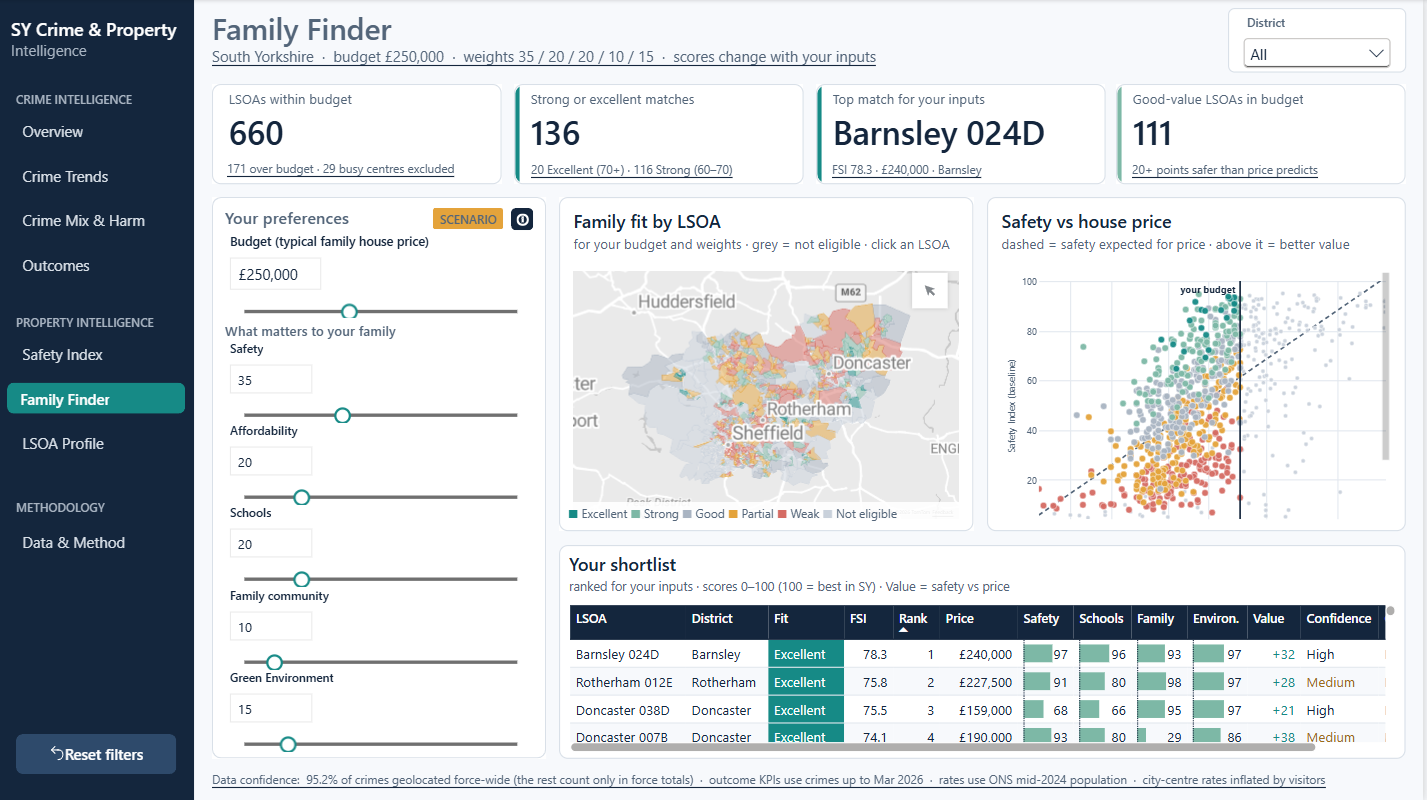

The dashboard page shown, as its layout file describes it:
{"tool":"powerbi","page":{"name":"Family Finder","canvas":[1280,720],"ordinal":5},"visuals":[{"type":"group","id":"g1","title":"Nav rail","box":[0,0,176,720],"z":0},{"type":"shape","box":[0,0,176,720],"z":0,"group":"g1"},{"type":"cardVisual","fields":{"Data":["_Measures.Strong Matches"]},"box":[463,76,260,90],"z":0,"group":"g4"},{"type":"cardVisual","fields":{"Data":["_Measures.Top Match"]},"box":[734,76,260,90],"z":0,"group":"g5"},{"type":"cardVisual","fields":{"Data":["_Measures.Good Value LSOAs"]},"box":[1004,76,260,90],"z":0,"group":"g6"},{"type":"cardVisual","title":"Card","fields":{"Data":["_Measures.LSOAs Within Budget"]},"box":[192.1,76.3,260,90],"z":0,"group":"g3"},{"type":"shape","box":[192,178,300,504],"z":0,"group":"g7"},{"type":"azureMap","title":"Family fit by LSOA","fields":{"Category":["LSOA.LSOA Code"]},"box":[504,178,372,300],"z":0,"group":"g8"},{"type":"shape","box":[390,188,63,19],"z":0,"group":"g2"},{"type":"textbox","box":[192,8,640,36],"z":1000},{"type":"textbox","box":[12,16,160,56],"z":1000,"group":"g1"},{"type":"textbox","box":[206,142,232,18],"z":1000,"group":"g3"},{"type":"textbox","box":[477.9,142,232,18],"z":1000,"group":"g4"},{"type":"textbox","box":[748,142,232,18],"z":1000,"group":"g5"},{"type":"textbox","box":[1018.6,142,232,18],"z":1000,"group":"g6"},{"type":"textbox","box":[392,188,60,17.9],"z":1000,"group":"g2"},{"type":"actionButton","box":[460,188,20,20],"z":1000,"group":"g7"},{"type":"textbox","box":[512,452,356,20],"z":1000,"group":"g8"},{"type":"textbox","box":[192,42,900,22],"z":2000},{"type":"textbox","box":[16,80,156,20],"z":2000,"group":"g1"},{"type":"textbox","box":[204,186,150,20],"z":2000,"group":"g7"},{"type":"slicer","fields":{"Values":["LSOA.Local Authority"]},"box":[1104,8,160,58],"z":3000},{"type":"group","id":"g2","title":"Badge","box":[390,188,63,19],"z":3000,"group":"g7"},{"type":"textbox","box":[16,280,156,20],"z":3000,"group":"g1"},{"type":"group","id":"g3","title":"KPI P6-1","box":[192.1,76.3,260,90],"z":4000},{"type":"slicer","fields":{"Values":["FSI Budget.Budget"]},"box":[200,210,284,76],"z":4000,"group":"g7"},{"type":"textbox","box":[16,446,156,20],"z":4000,"group":"g1"},{"type":"group","id":"g4","title":"KPI P6-2","box":[463,76,260,90],"z":5000},{"type":"pageNavigator","box":[8,104,160,150],"z":5000,"group":"g1"},{"type":"textbox","box":[204,288,280,18],"z":5000,"group":"g7"},{"type":"group","id":"g5","title":"KPI P6-3","box":[734,76,260,90],"z":6000},{"type":"pageNavigator","box":[8,304,160,108],"z":6000,"group":"g1"},{"type":"slicer","title":"Safety","fields":{"Values":["FSI Weight Safety.Safety Weight %"]},"box":[200,306,284,74],"z":6000,"group":"g7"},{"type":"group","id":"g6","title":"KPI P6-4","box":[1004,76,260,90],"z":7000},{"type":"slicer","title":"Affordability","fields":{"Values":["FSI Weight Affordability.Affordability Weight %"]},"box":[200,380,284,74],"z":7000,"group":"g7"},{"type":"pageNavigator","box":[8,470,160.1,32],"z":7000,"group":"g1"},{"type":"slicer","title":"Schools","fields":{"Values":["FSI Weight Schools.Schools Weight %"]},"box":[200,454,284,74],"z":8000,"group":"g7"},{"type":"actionButton","box":[16,660,144,36],"z":8000,"group":"g1"},{"type":"textbox","box":[192,690,1072,22],"z":8000},{"type":"group","id":"g7","title":"Your Preferences","box":[192,178,300,504],"z":9000},{"type":"slicer","title":"Family community","fields":{"Values":["FSI Weight Family.Family Weight %"]},"box":[200,528,284,74],"z":9000,"group":"g7"},{"type":"group","id":"g8","title":"P5 - Azure Map","box":[504,178,372,300],"z":10000},{"type":"slicer","title":"Green environment","fields":{"Values":["FSI Weight Environment.Environment Weight %"]},"box":[200,602,284,74],"z":10000,"group":"g7"},{"type":"deneb7E15AEF80B9E4D4F8E12924291ECE89A","title":"Safety vs house price","fields":{"dataset":["LSOA.LSOA Code","LSOA.LSOA Name","LSOA.Local Authority","LSOA.Family House Price","LSOA.NSI Score","LSOA.NSI Expected for Price","_Measures.FSI","_Measures.FSI Class","FSI Budget.Budget Value"]},"box":[888,178,376,300],"z":11000},{"type":"tableEx","title":"Your shortlist","fields":{"Values":["LSOA.LSOA Name","LSOA.Local Authority","_Measures.FSI Class","_Measures.FSI","_Measures.FSI Rank","LSOA.Family House Price","_Measures.Safety Score","_Measures.Schools Score","_Measures.Family Score","_Measures.Environment Score","_Measures.Value vs Price","_Measures.Family Confidence"]},"box":[504,490,760,192],"z":12000}]}

Visuals, with their boxes on the page's 1280x720 design canvas (x1, y1, x2, y2). These are canvas units, not pixel positions in the 1427x800 screenshot, which may show the page scaled, cropped or inside an application window:
"Nav rail" group: rect(0, 0, 176, 720)
shape: rect(0, 0, 176, 720)
cardVisual - _Measures.Strong Matches: rect(463, 76, 723, 166)
cardVisual - _Measures.Top Match: rect(734, 76, 994, 166)
cardVisual - _Measures.Good Value LSOAs: rect(1004, 76, 1264, 166)
"Card" cardVisual: rect(192, 76, 452, 166)
shape: rect(192, 178, 492, 682)
"Family fit by LSOA" azureMap: rect(504, 178, 876, 478)
shape: rect(390, 188, 453, 207)
textbox: rect(192, 8, 832, 44)
textbox: rect(12, 16, 172, 72)
textbox: rect(206, 142, 438, 160)
textbox: rect(478, 142, 710, 160)
textbox: rect(748, 142, 980, 160)
textbox: rect(1019, 142, 1251, 160)
textbox: rect(392, 188, 452, 206)
actionButton: rect(460, 188, 480, 208)
textbox: rect(512, 452, 868, 472)
textbox: rect(192, 42, 1092, 64)
textbox: rect(16, 80, 172, 100)
textbox: rect(204, 186, 354, 206)
slicer - LSOA.Local Authority: rect(1104, 8, 1264, 66)
"Badge" group: rect(390, 188, 453, 207)
textbox: rect(16, 280, 172, 300)
"KPI P6-1" group: rect(192, 76, 452, 166)
slicer - FSI Budget.Budget: rect(200, 210, 484, 286)
textbox: rect(16, 446, 172, 466)
"KPI P6-2" group: rect(463, 76, 723, 166)
pageNavigator: rect(8, 104, 168, 254)
textbox: rect(204, 288, 484, 306)
"KPI P6-3" group: rect(734, 76, 994, 166)
pageNavigator: rect(8, 304, 168, 412)
"Safety" slicer: rect(200, 306, 484, 380)
"KPI P6-4" group: rect(1004, 76, 1264, 166)
"Affordability" slicer: rect(200, 380, 484, 454)
pageNavigator: rect(8, 470, 168, 502)
"Schools" slicer: rect(200, 454, 484, 528)
actionButton: rect(16, 660, 160, 696)
textbox: rect(192, 690, 1264, 712)
"Your Preferences" group: rect(192, 178, 492, 682)
"Family community" slicer: rect(200, 528, 484, 602)
"P5 - Azure Map" group: rect(504, 178, 876, 478)
"Green environment" slicer: rect(200, 602, 484, 676)
"Safety vs house price" deneb7E15AEF80B9E4D4F8E12924291ECE89A: rect(888, 178, 1264, 478)
"Your shortlist" tableEx: rect(504, 490, 1264, 682)
